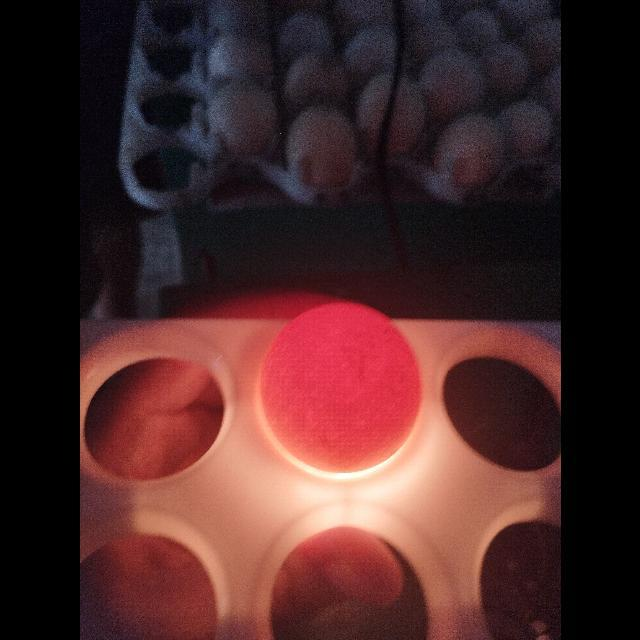Infertile: (258, 299, 427, 476)
